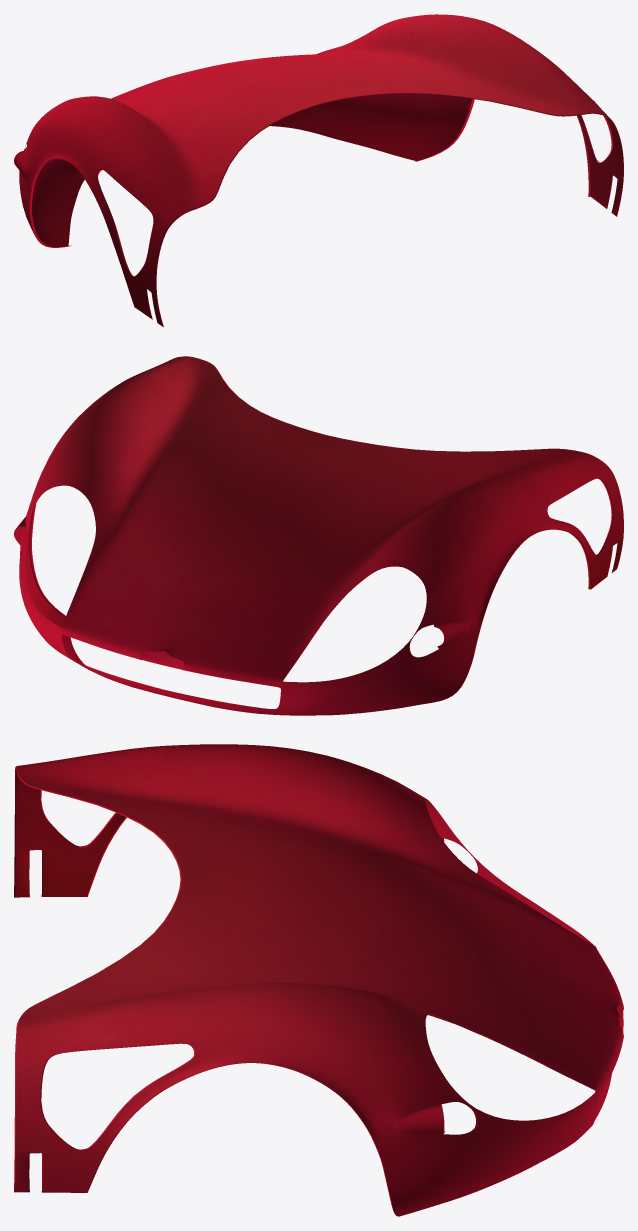
File: cofre_Coche.obj
3 renders of one model, top to bottom at view 1: azimuth 30°, elevation 25°; view 2: azimuth 150°, elevation 25°; view 3: azimuth 270°, elevation 25°, orthographic. The views are drawn at different scales.
Parts seen in each view (by area): view 1: Object318; view 2: Object318; view 3: Object318.
Part boxes in pixels (x1=…): Object318: x1=14, y1=14, x2=623, y2=327; Object318: x1=14, y1=356, x2=623, y2=715; Object318: x1=14, y1=744, x2=623, y2=1216.
Size of the model in its own units: 166 by 57.33 by 140.
Materials: 1 (1 with a texture image).
